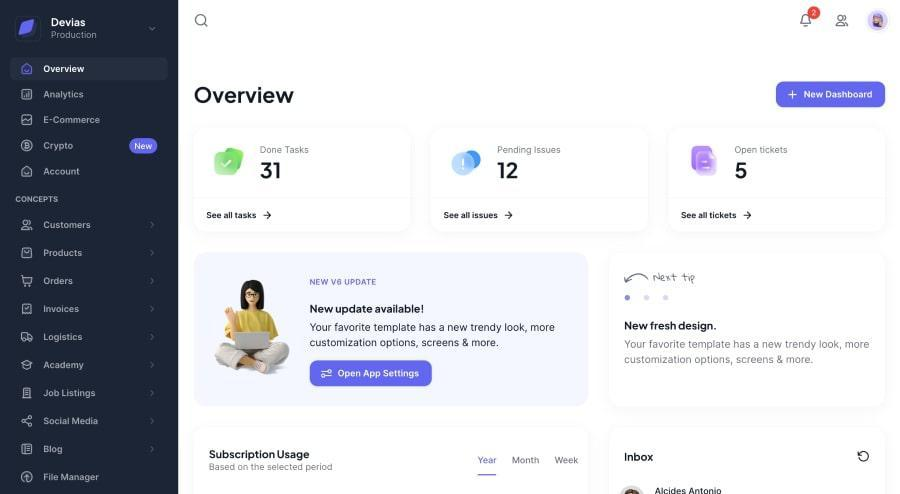button: (310, 361, 432, 388), (776, 82, 886, 109), (130, 137, 162, 156)
icon: (798, 5, 822, 31), (42, 64, 88, 75), (20, 214, 39, 235), (20, 385, 39, 406), (20, 412, 38, 433), (192, 13, 212, 31), (19, 356, 37, 376), (835, 11, 853, 31), (20, 328, 38, 347), (21, 301, 37, 322), (20, 273, 37, 292), (20, 440, 35, 461), (20, 112, 36, 131), (20, 164, 37, 181), (20, 88, 36, 106), (21, 246, 36, 265), (21, 139, 35, 159), (21, 469, 36, 487), (857, 449, 872, 465), (21, 63, 34, 78)
